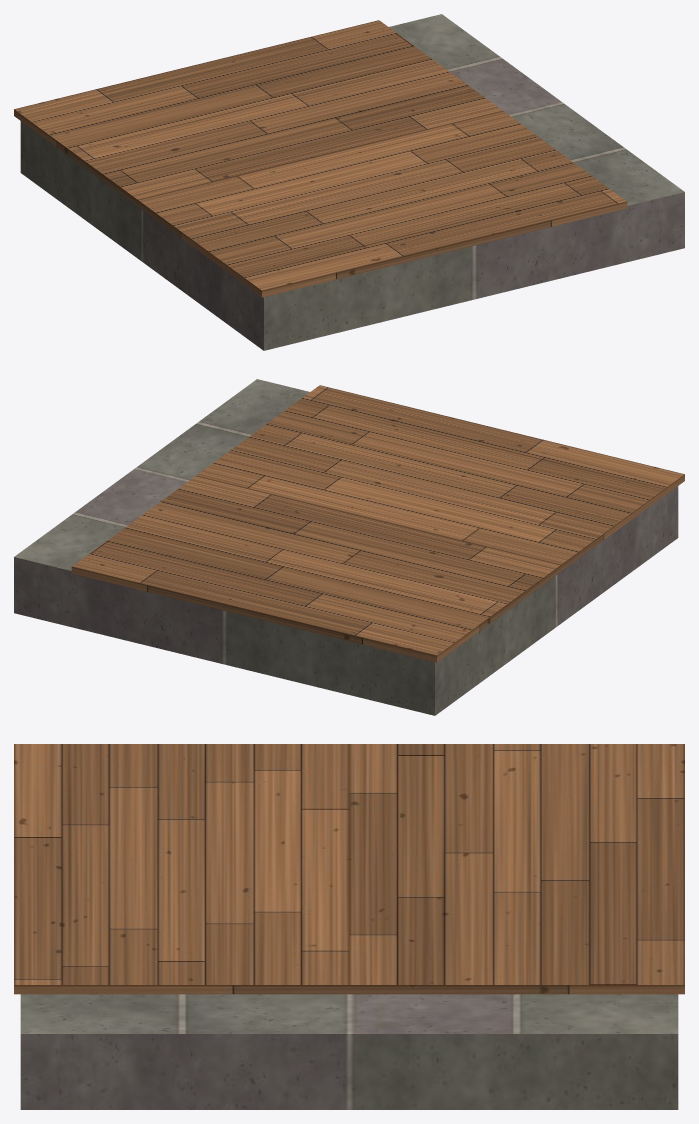
Rendered from floor_floor_g_e0100.glb.
3 renders of one model, top to bottom at view 1: azimuth 30°, elevation 25°; view 2: azimuth 150°, elevation 25°; view 3: azimuth 270°, elevation 25°, orthographic. The views are drawn at different scales.
Visible parts, largest first — view 1: floor_floor_g_e0100_floor, floor_floor_g_e0100_plinth; view 2: floor_floor_g_e0100_floor, floor_floor_g_e0100_plinth; view 3: floor_floor_g_e0100_floor, floor_floor_g_e0100_plinth.
Boxes of the visible parts, bbox=[...] form: floor_floor_g_e0100_floor: bbox=[14, 20, 627, 297]; floor_floor_g_e0100_plinth: bbox=[20, 14, 684, 350]; floor_floor_g_e0100_floor: bbox=[71, 385, 684, 662]; floor_floor_g_e0100_plinth: bbox=[14, 379, 678, 715]; floor_floor_g_e0100_floor: bbox=[14, 744, 684, 994]; floor_floor_g_e0100_plinth: bbox=[20, 994, 678, 1109].
Size of the model in its own units: 1.98 by 0.28 by 2.
2 materials, 2 textured.
